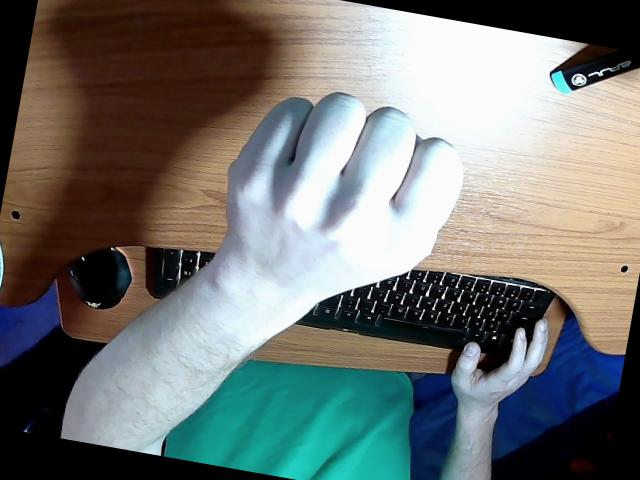rock: (124, 93, 463, 375)
